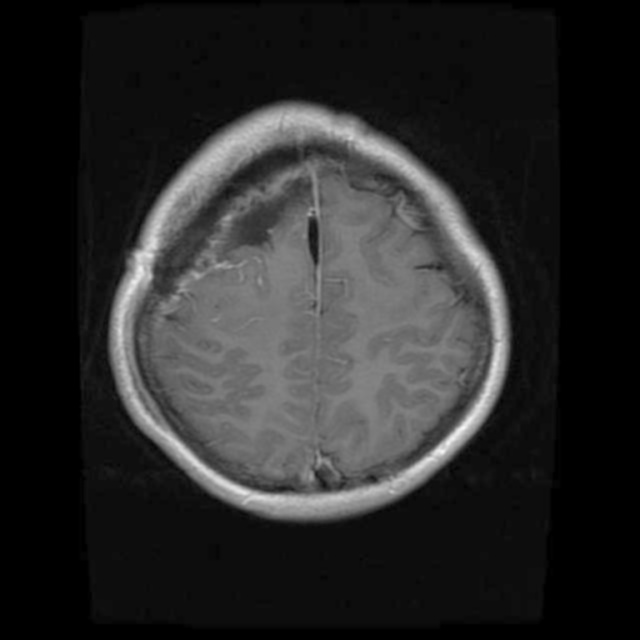pituitary tumor: (222, 172, 308, 258)
